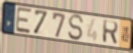4: (86, 18, 100, 44)
7: (34, 9, 49, 36), (52, 11, 66, 39)
E: (15, 6, 33, 35)
R: (102, 19, 119, 46)
S: (67, 14, 84, 42)
